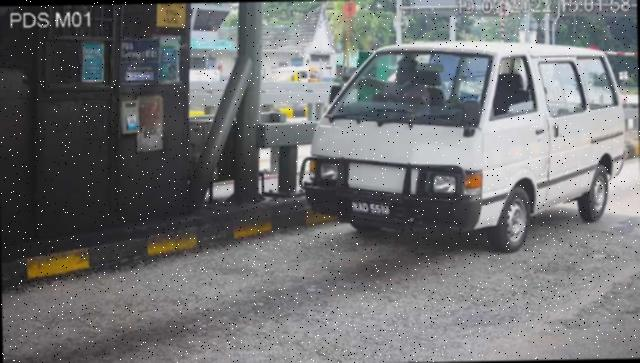License_Plate: (350, 200, 395, 221)
van: (298, 40, 629, 257)
